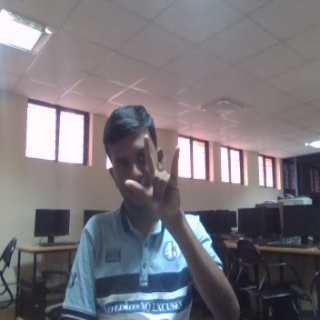I Love You: (124, 132, 184, 223)
